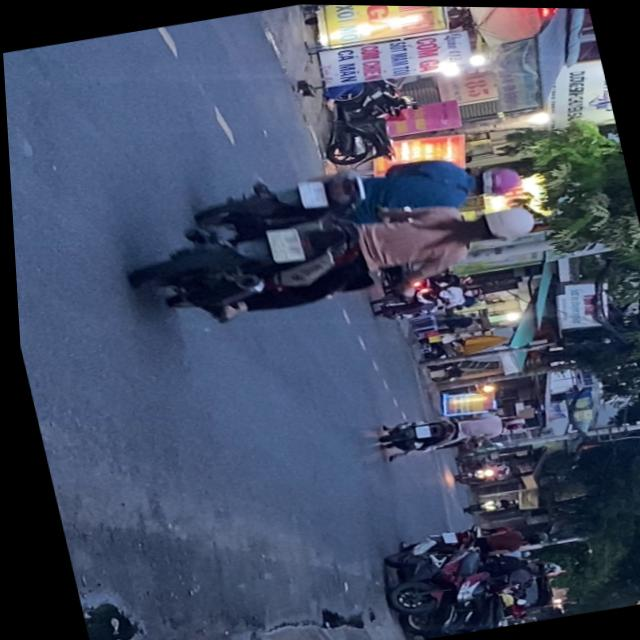helmet: (464, 198, 538, 244), (466, 158, 522, 197)
licenseplate: (120, 175, 552, 341), (186, 129, 530, 254)
nohelmet: (264, 223, 302, 261), (296, 176, 327, 207)
